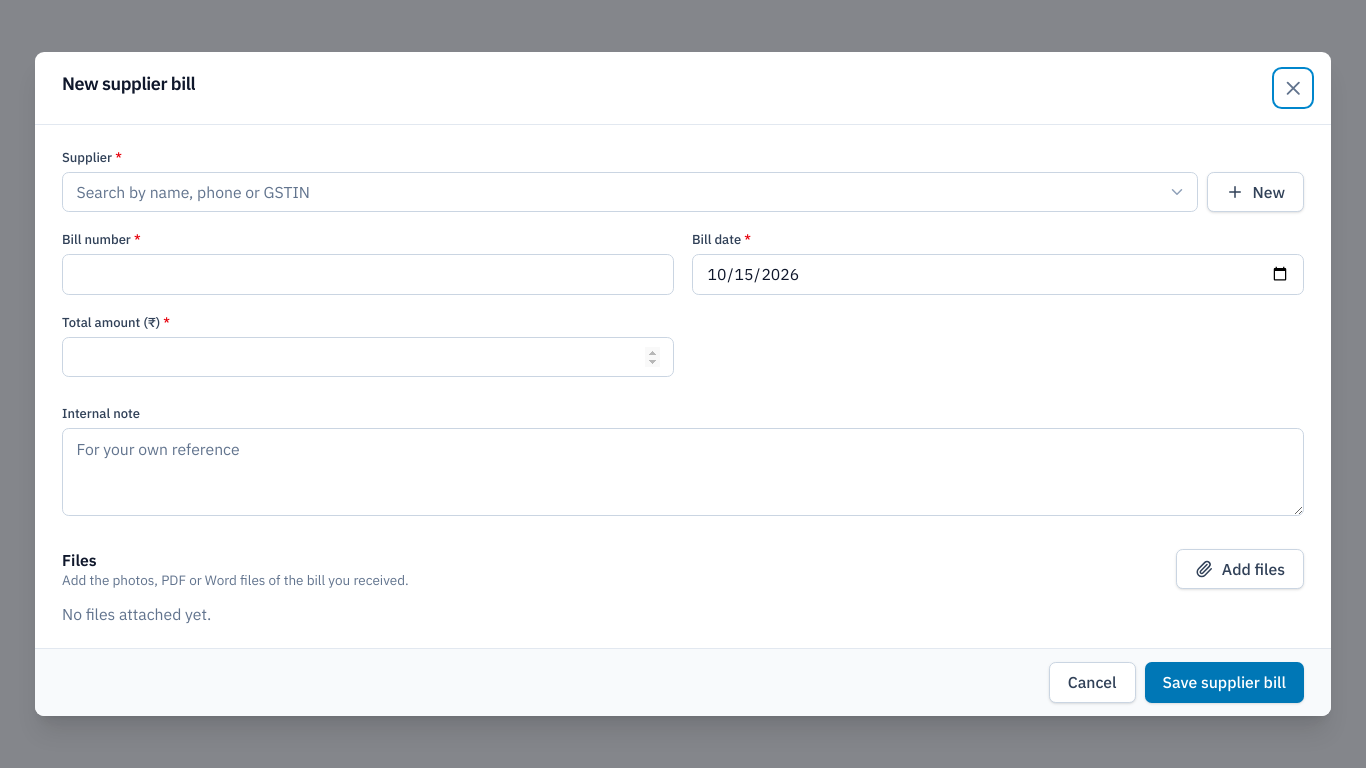
a new supplier bill › refuses to save › with a total of -5
This screenshot has width=1366, height=768.
Click the dropdown named "Supplier".
click(630, 192)  # box [62,172,1198,212]
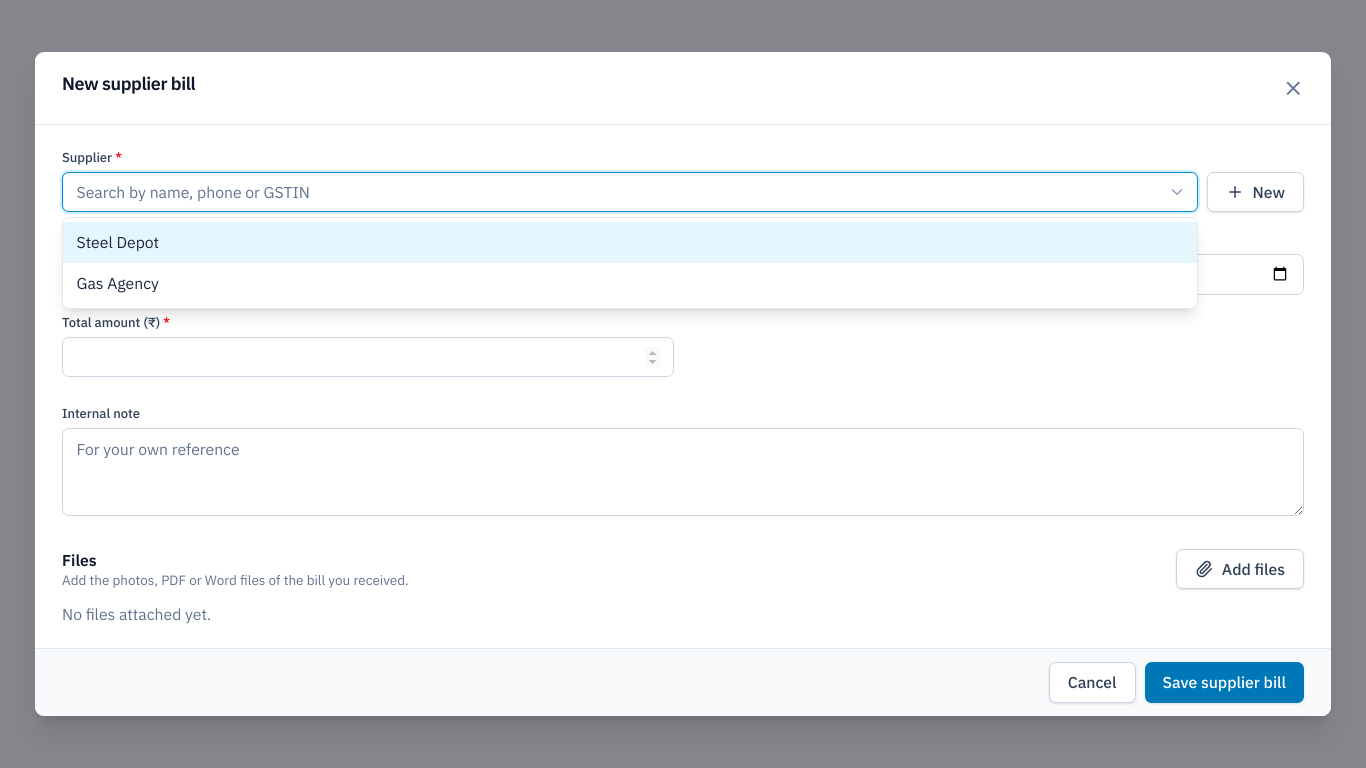
Click the option "Steel Depot".
click(118, 242)  # box [63,222,1196,262]
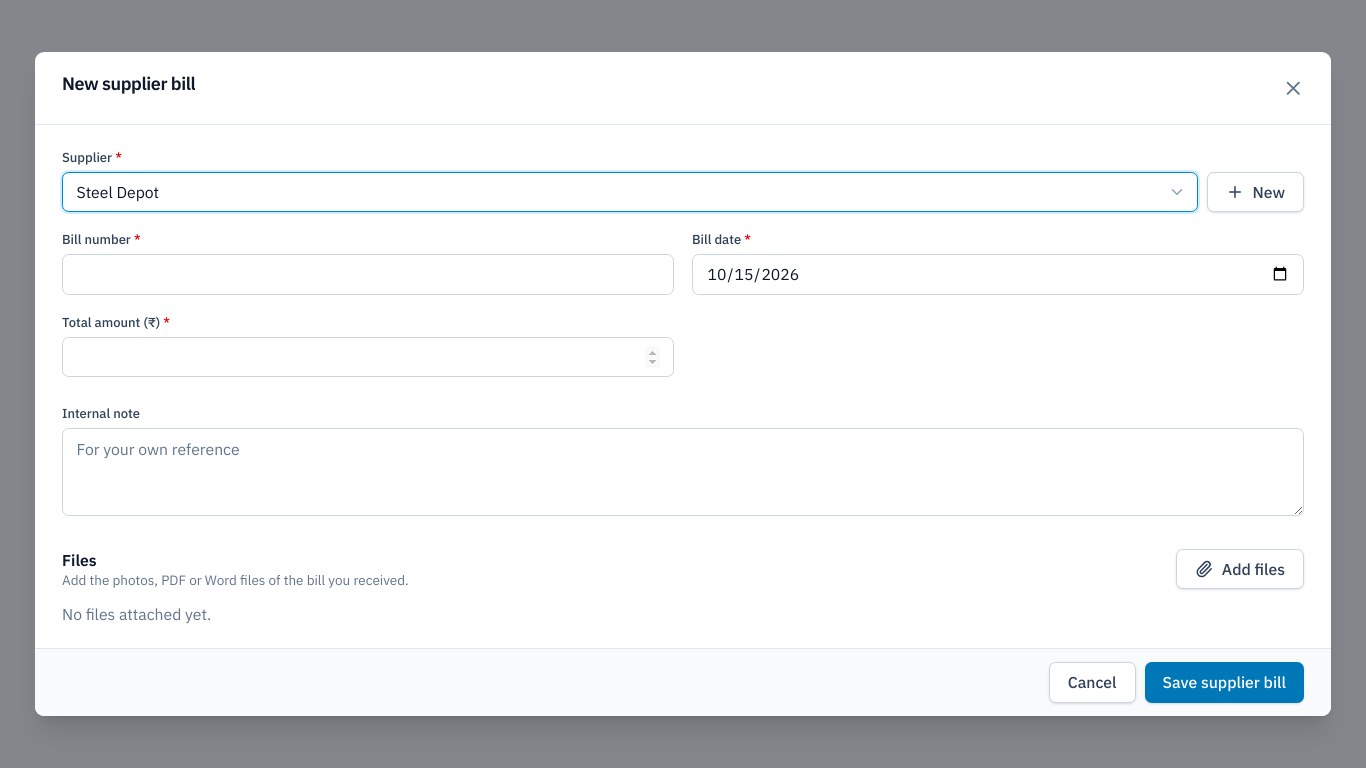
Type "SD-1" into the field labelled "Bill number".
click(368, 274); type("SD-1")  # box [62,254,674,294]
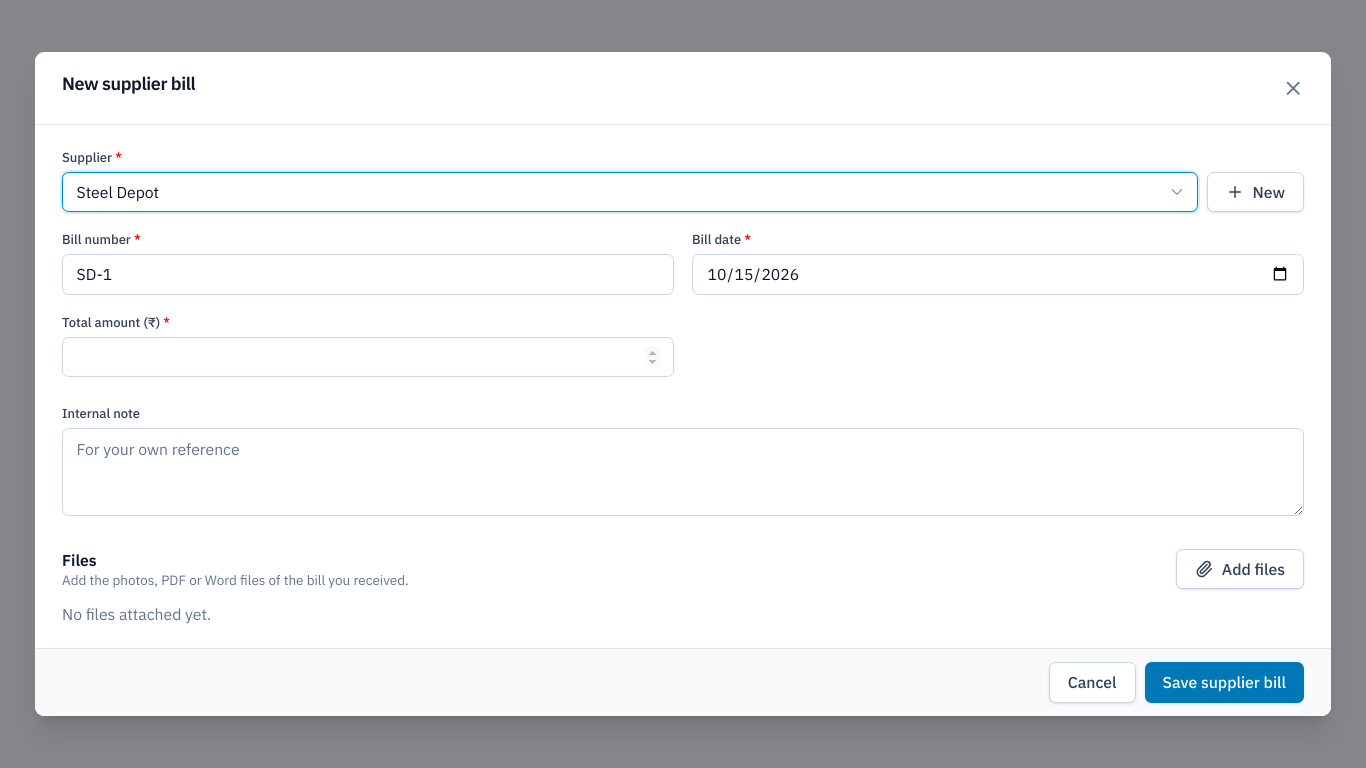
Type "-5" into the number field labelled "Total amount".
click(368, 357); type("-5")  # box [62,336,674,377]
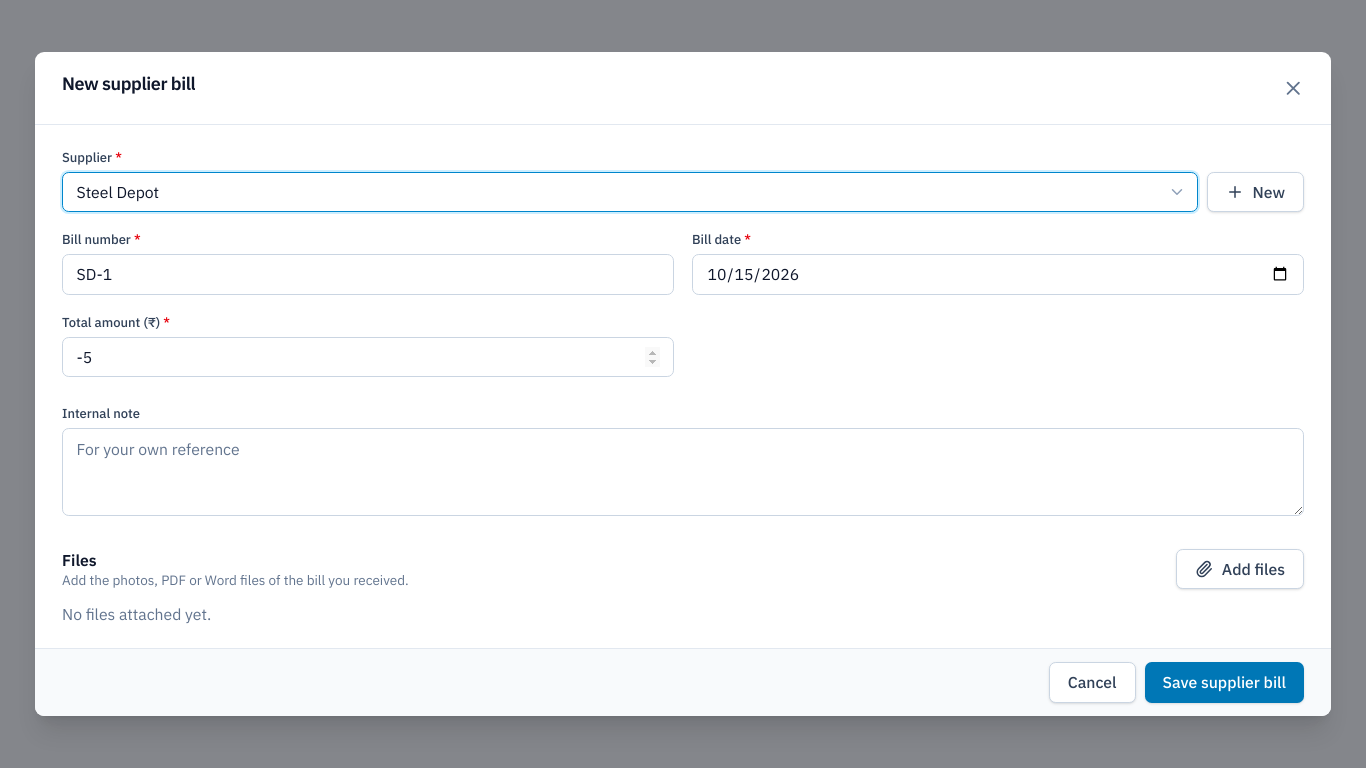
Click the button "Save supplier bill".
click(1224, 682)  # box [1145,662,1304,702]
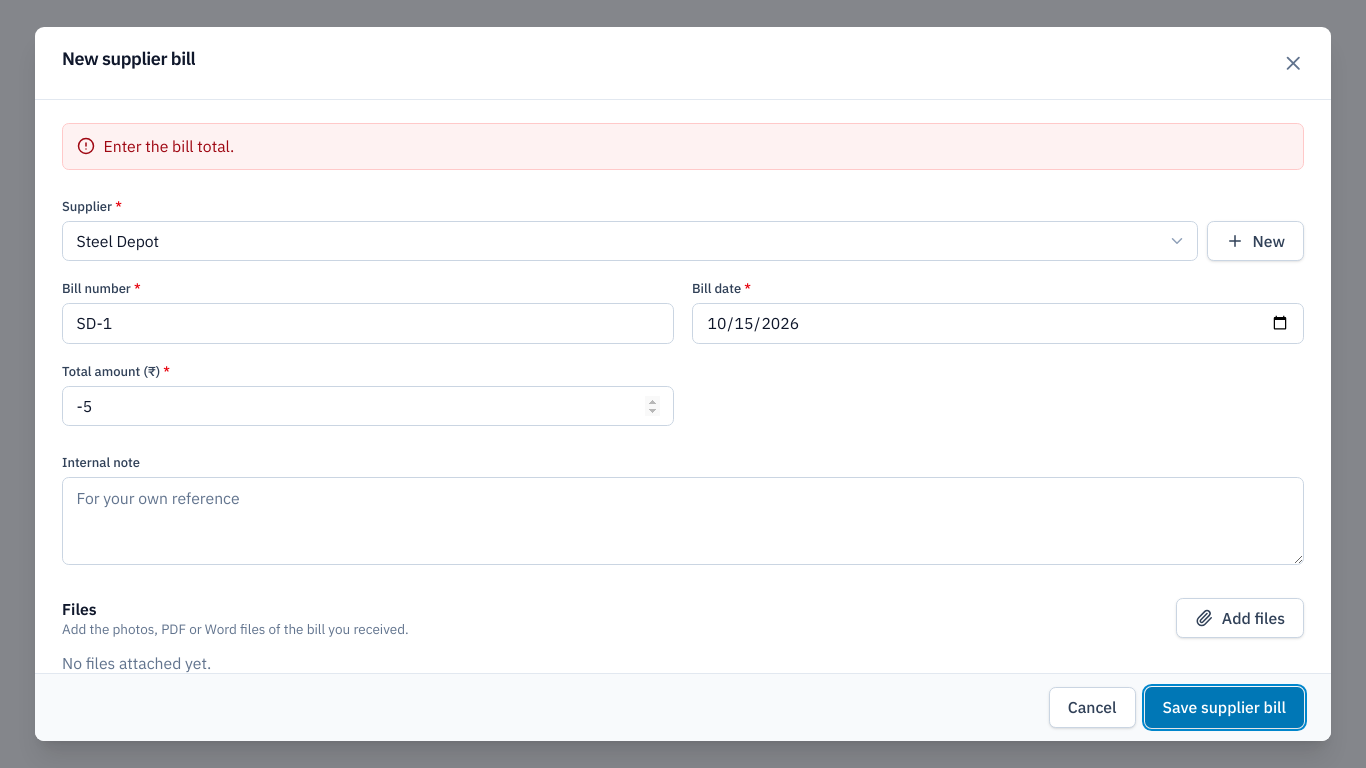
Expected: the message reads "Enter the bill total.", [104,136,234,156]
